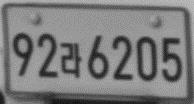0: (135, 35, 157, 82)
2: (111, 35, 134, 81), (36, 32, 58, 79)
5: (161, 37, 182, 83)
6: (86, 34, 109, 79)
9: (11, 31, 34, 77)
라: (59, 40, 83, 79)
